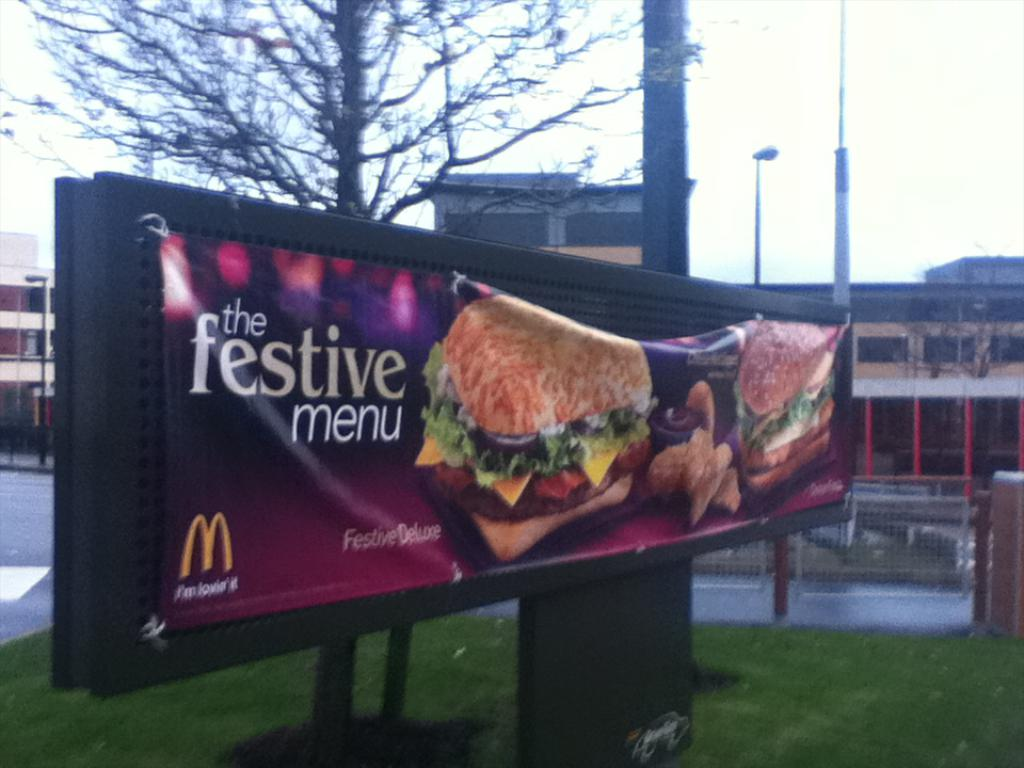Hamburger: (419, 296, 665, 556), (731, 323, 845, 490)
